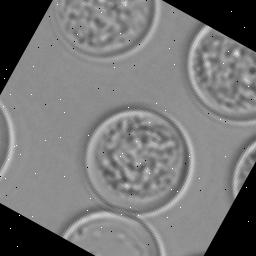picoshell: (87, 108, 195, 216), (187, 25, 256, 124), (55, 0, 157, 59), (63, 209, 163, 256), (233, 142, 256, 199), (0, 101, 16, 179)
